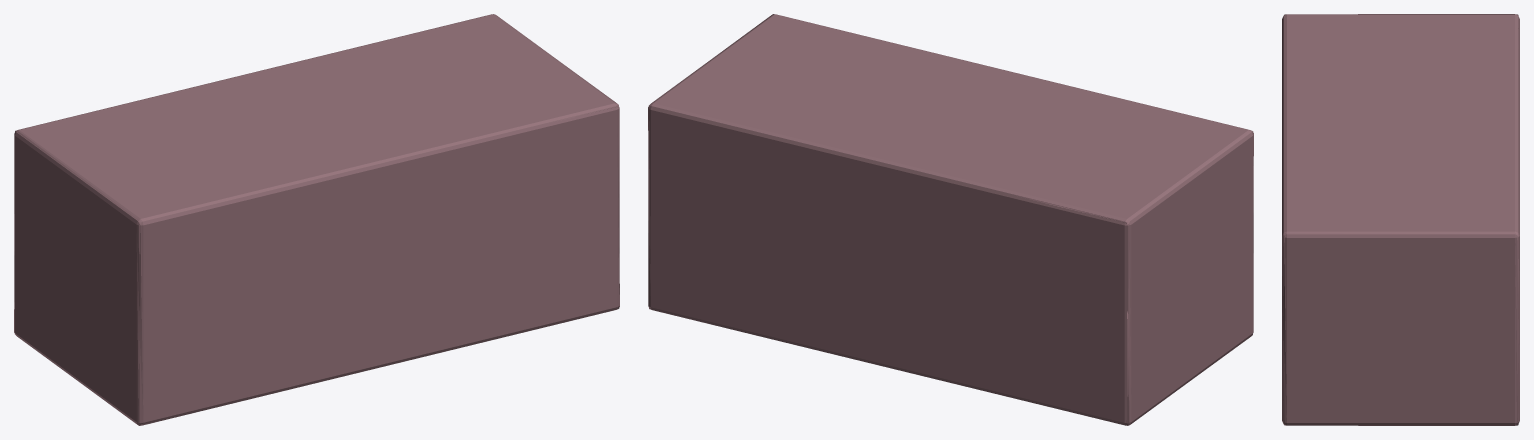
File: SM_Schlachthof_Trough.fbx
3 views of the same model, side by side, from view 1: azimuth 30°, elevation 25°; view 2: azimuth 150°, elevation 25°; view 3: azimuth 270°, elevation 25° (orthographic). The views are drawn at different scales.
Visible parts, largest first — view 1: LOD0_SM_Schlachthof_Trough, LOD1_SM_Schlachthof_Trough; view 2: LOD0_SM_Schlachthof_Trough, LOD1_SM_Schlachthof_Trough; view 3: LOD0_SM_Schlachthof_Trough, LOD1_SM_Schlachthof_Trough, LOD2_SM_Schlachthof_Trough.
Boxes of the visible parts, x1,y1,x2,y2 form: LOD0_SM_Schlachthof_Trough: [14, 14, 619, 425]; LOD1_SM_Schlachthof_Trough: [14, 14, 619, 424]; LOD0_SM_Schlachthof_Trough: [648, 14, 1253, 425]; LOD1_SM_Schlachthof_Trough: [648, 14, 1253, 425]; LOD0_SM_Schlachthof_Trough: [1282, 14, 1519, 425]; LOD1_SM_Schlachthof_Trough: [1282, 14, 1519, 425]; LOD2_SM_Schlachthof_Trough: [1283, 14, 1518, 425].
Bounding box in the file's own units: 2.2 × 0.9 × 1.
